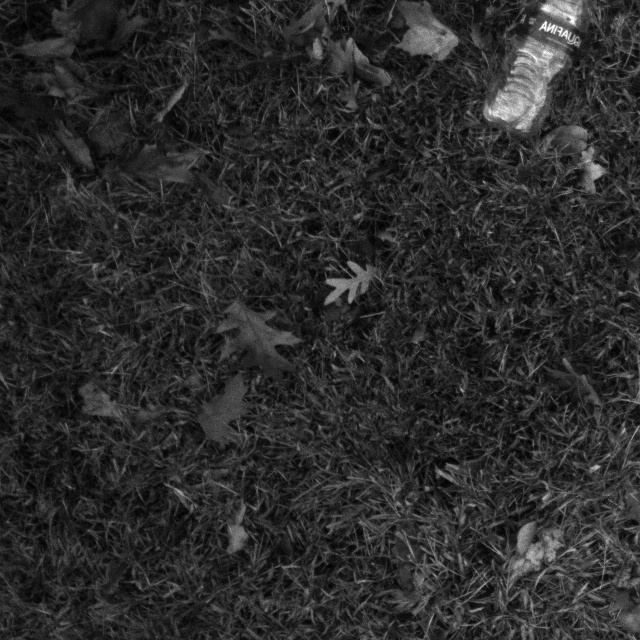bottle: (482, 0, 596, 147)
